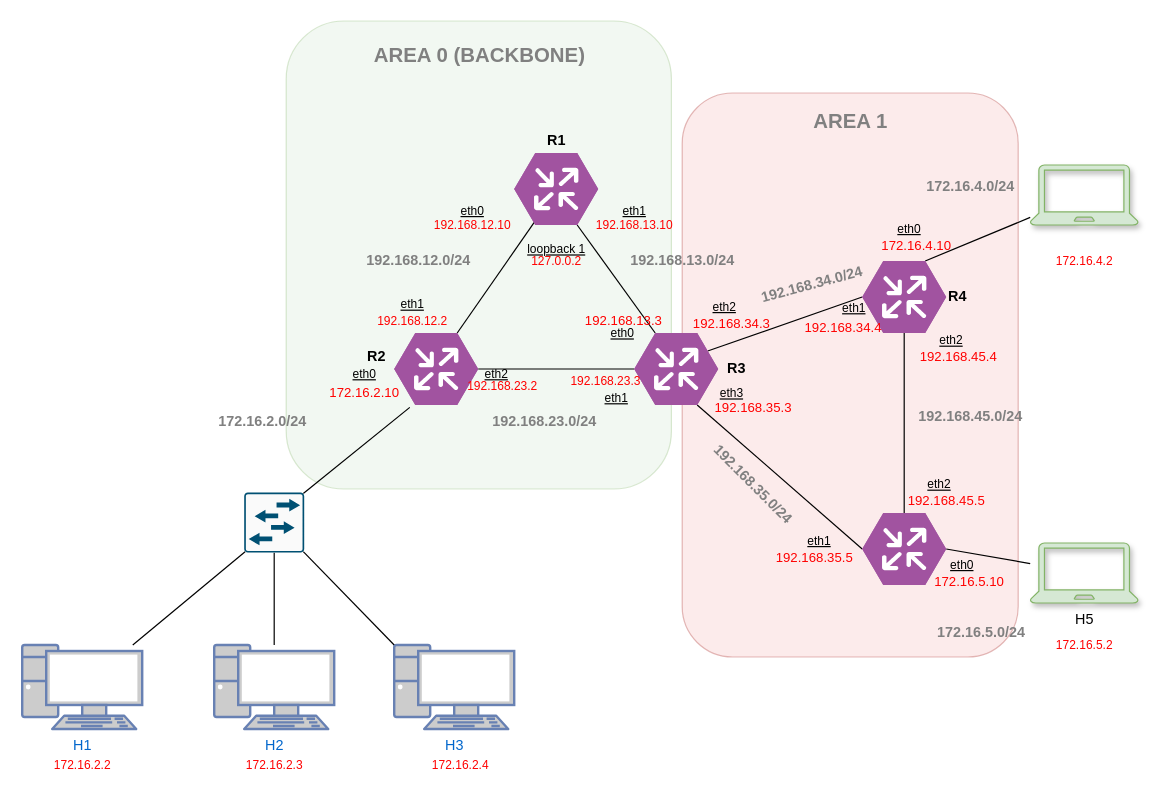
The diagram is 1166 pixels wide and 798 high, and some of its shapes have lost their labels. Here are the shapes that lost their labels. From the top down, the centre of each, then its label:
At pixel 1084 196: "H4".
At pixel 903 548: "R5".
